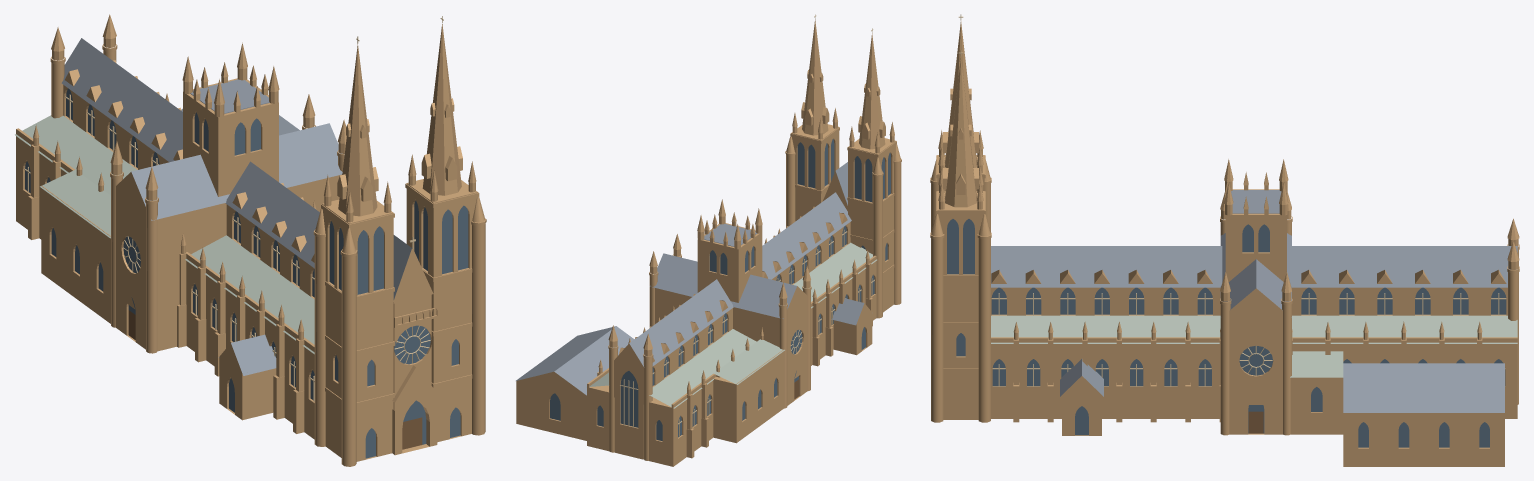
Rendered from sydney-st-marys-cathedral.detail.glb.
The picture shows the model from 3 angles, left to right: view 1: azimuth 30°, elevation 25°; view 2: azimuth 150°, elevation 25°; view 3: azimuth 270°, elevation 25°; orthographic projection. The views are drawn at different scales.
Parts seen in each view (by area): view 1: St Mary's Cathedral; view 2: St Mary's Cathedral; view 3: St Mary's Cathedral.
Boxes of the visible parts, bbox=[...] form: St Mary's Cathedral: bbox=[15, 14, 486, 466]; St Mary's Cathedral: bbox=[516, 14, 901, 466]; St Mary's Cathedral: bbox=[930, 14, 1519, 466].
Size of the model in its own units: 52.95 by 74.6 by 111.
